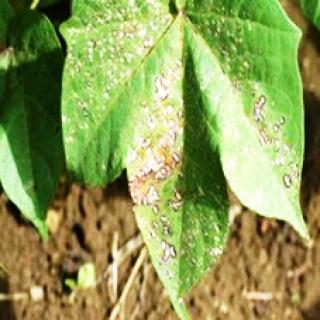grey mildew: (61, 9, 313, 310)
